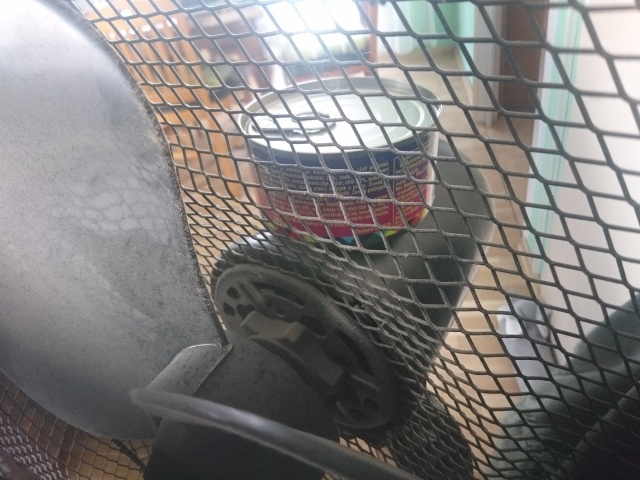Giana Tuna Salad Mexico 185g: (234, 72, 443, 250)
